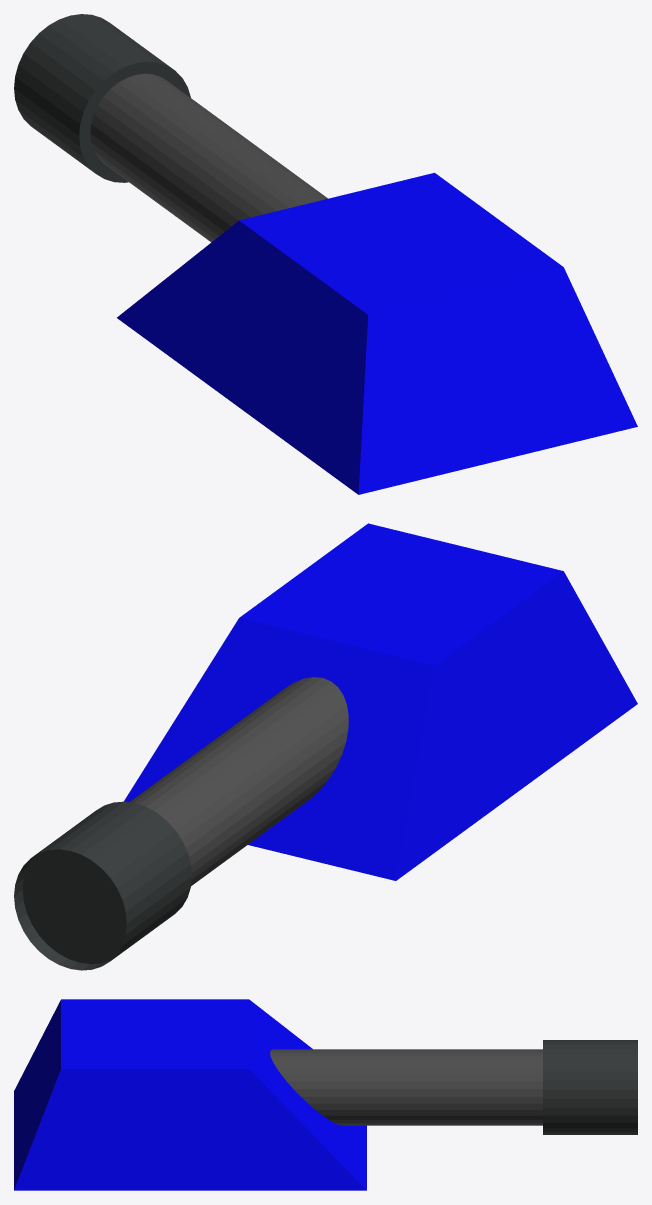
The model's file is TankUpper.gltf.
The picture shows the model from 3 angles, top to bottom: view 1: azimuth 30°, elevation 25°; view 2: azimuth 150°, elevation 25°; view 3: azimuth 270°, elevation 25°; orthographic projection. The views are drawn at different scales.
Parts seen in each view (by area): view 1: Cube, 円柱, 円柱.001; view 2: Cube, 円柱, 円柱.001; view 3: Cube, 円柱, 円柱.001.
Boxes of the visible parts, <box> form: Cube: <box>117,172,637,494</box>; 円柱: <box>90,73,327,242</box>; 円柱.001: <box>14,14,190,182</box>; Cube: <box>124,523,637,880</box>; 円柱: <box>129,677,348,885</box>; 円柱.001: <box>14,801,191,970</box>; Cube: <box>14,999,366,1190</box>; 円柱: <box>270,1049,542,1125</box>; 円柱.001: <box>543,1040,637,1134</box>.
Bounding box in the file's own units: 1.2 × 0.6 × 3.18.
